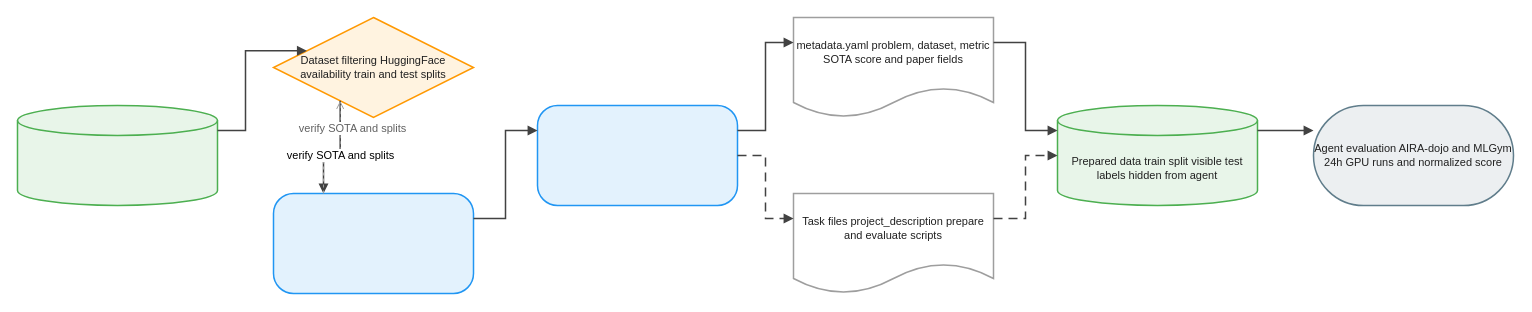
Some shapes in this 1532 by 312 pixel diagram are drawn without their labels. Each missing label, with the box of its shape:
Benchmark selection about 100 candidates choose 20 tasks in 7 categories: (536, 104, 738, 206)
Manual task creation verify metric and splits update SOTA when needed: (272, 192, 474, 294)
Paper and leaderboard sources PapersWithCode SOTA results 2020 to 2025 ML papers: (16, 104, 218, 206)
